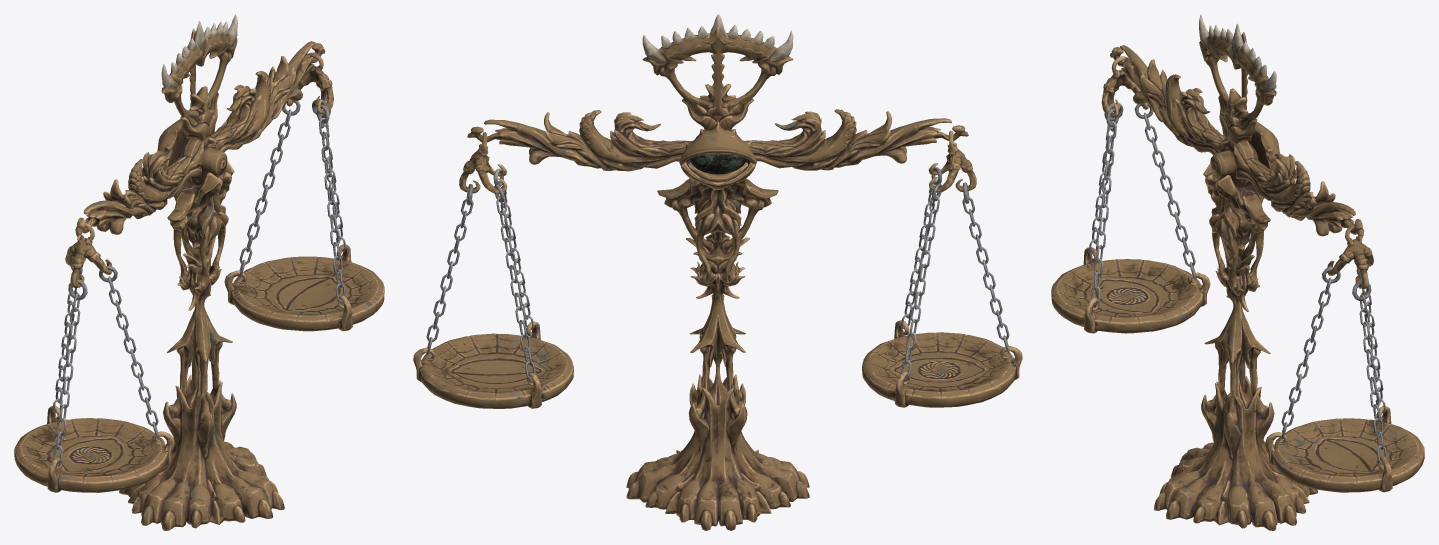
File: Scale 3.fbx
3 views of the same model, side by side, from view 1: azimuth 30°, elevation 25°; view 2: azimuth 150°, elevation 25°; view 3: azimuth 270°, elevation 25° (orthographic).
Visible parts, largest first — view 1: Scale, Arms, LeftDish, RightDish, LeftChains, RightChains, HandLeft, HandRight; view 2: Scale, Arms, LeftDish, RightDish, LeftChains, RightChains, HandLeft, HandRight, ArrowMesh, Eye; view 3: Scale, Arms, RightDish, LeftDish, LeftChains, RightChains, HandRight, HandLeft.
Part boxes in pixels (bbox=[...]): Scale: bbox=[119, 14, 284, 530]; Arms: bbox=[75, 41, 325, 234]; LeftDish: bbox=[14, 405, 174, 492]; RightDish: bbox=[224, 244, 384, 331]; LeftChains: bbox=[52, 273, 159, 464]; RightChains: bbox=[238, 109, 346, 302]; HandLeft: bbox=[65, 223, 112, 288]; HandRight: bbox=[286, 52, 333, 114]; Scale: bbox=[626, 14, 809, 530]; Arms: bbox=[467, 109, 968, 171]; LeftDish: bbox=[862, 320, 1022, 407]; RightDish: bbox=[413, 321, 573, 408]; LeftChains: bbox=[900, 179, 1009, 378]; RightChains: bbox=[426, 181, 535, 379]; HandLeft: bbox=[928, 130, 976, 192]; HandRight: bbox=[459, 132, 507, 193]; ArrowMesh: bbox=[702, 27, 733, 129]; Eye: bbox=[689, 154, 746, 174]; Scale: bbox=[1153, 14, 1317, 530]; Arms: bbox=[1110, 45, 1364, 236]; RightDish: bbox=[1265, 406, 1424, 492]; LeftDish: bbox=[1051, 247, 1210, 333]; LeftChains: bbox=[1088, 112, 1196, 304]; RightChains: bbox=[1280, 275, 1387, 463]; HandRight: bbox=[1327, 224, 1373, 289]; HandLeft: bbox=[1101, 56, 1148, 117].
Bounding box in the file's own units: 40.2 × 39.56 × 28.37.
